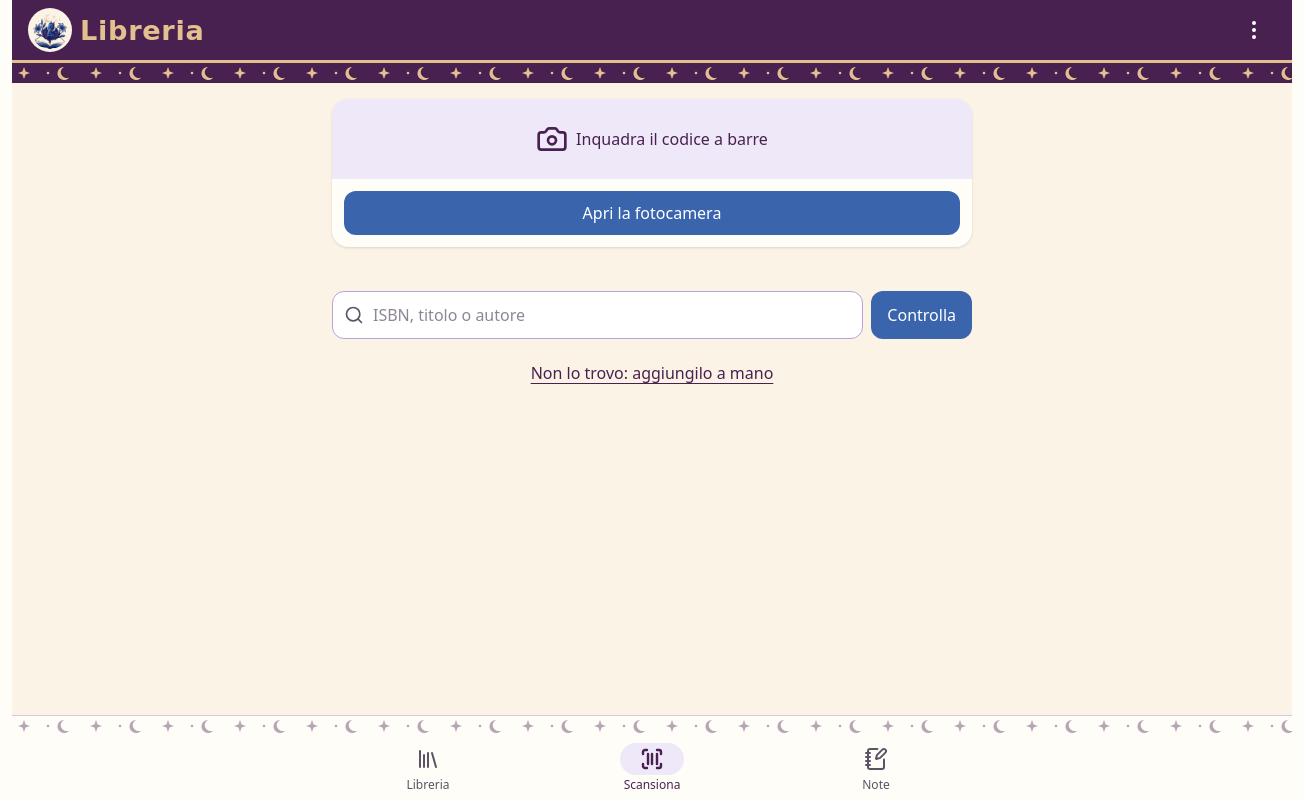
Test: Scansiona senza BarcodeDetector (Safari iOS) › senza fotocamera: messaggio chiaro
Click the button "Apri la fotocamera" at (652, 213), box 344,191 -> 960,235
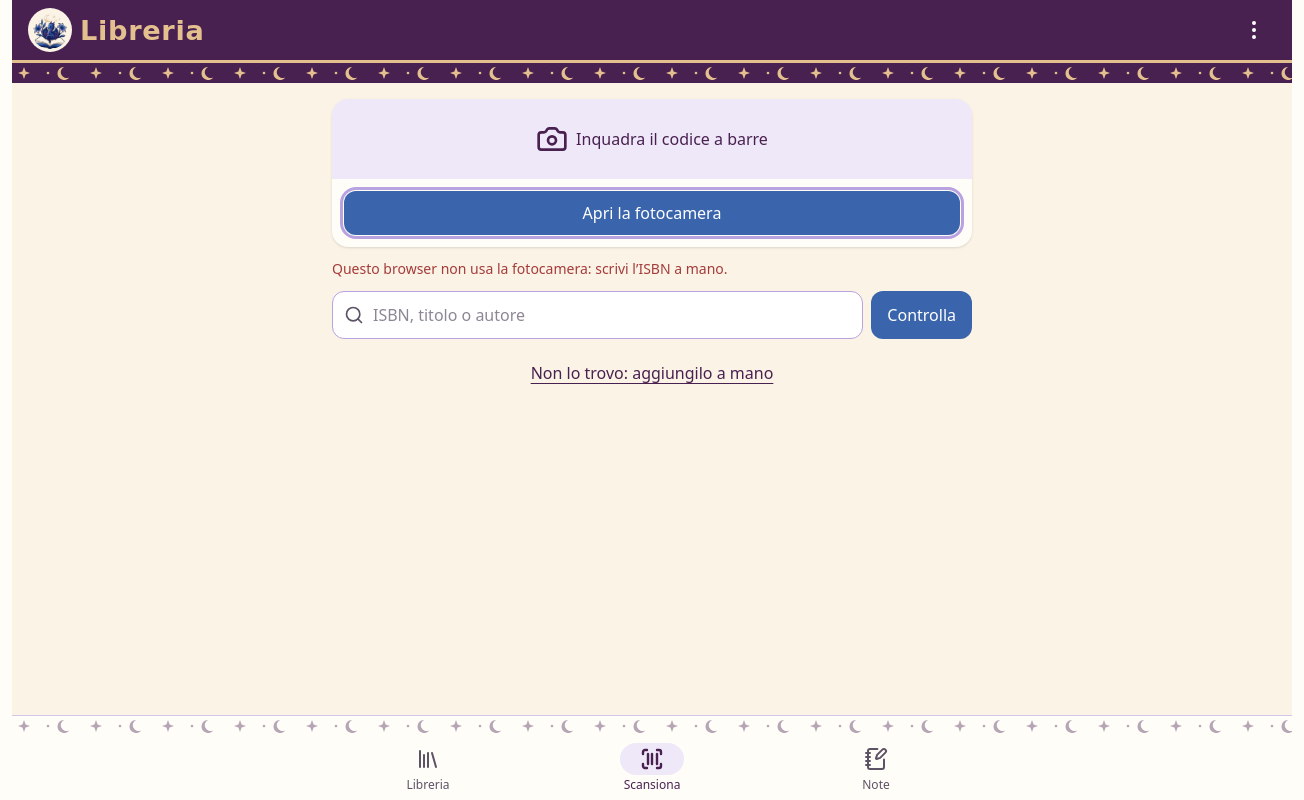
Expected: the text "Questo browser non usa la fotocamera: scrivi l’ISBN a mano." is shown, 332,259 -> 728,278
